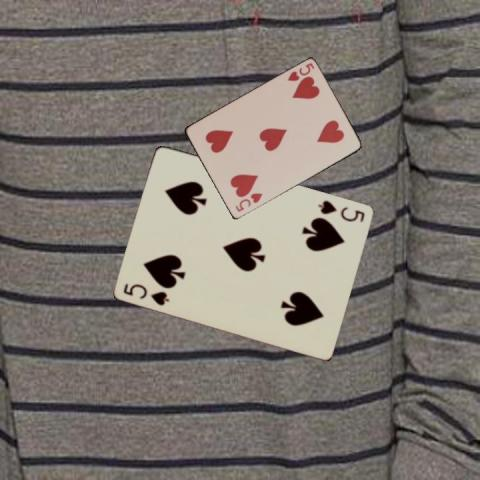5h: (232, 190, 264, 213), (284, 60, 315, 83)
5s: (314, 197, 366, 223), (121, 280, 171, 307)
